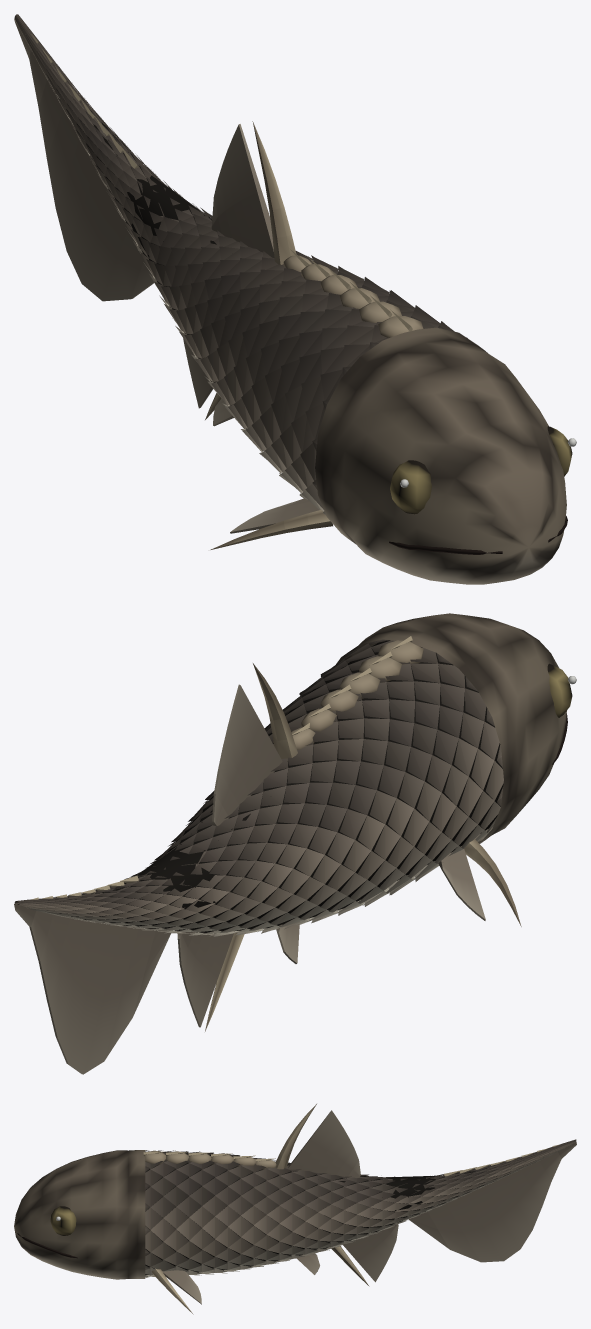
Rendered from Eosteus.fbx.
3 views of the same model, one above another, from view 1: azimuth 30°, elevation 25°; view 2: azimuth 150°, elevation 25°; view 3: azimuth 270°, elevation 25° (orthographic). The views are drawn at different scales.
Parts seen in each view (by area): view 1: Eosteus; view 2: Eosteus; view 3: Eosteus.
Part boxes in pixels (x1,y1,x2,y2): Eosteus: (14,14,576,584); Eosteus: (14,613,576,1074); Eosteus: (14,1104,576,1314).
Bounding box in the file's own units: 0.5298 × 0.5425 × 1.5.
